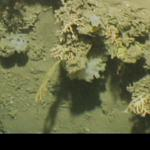alive: (4, 1, 146, 129)
